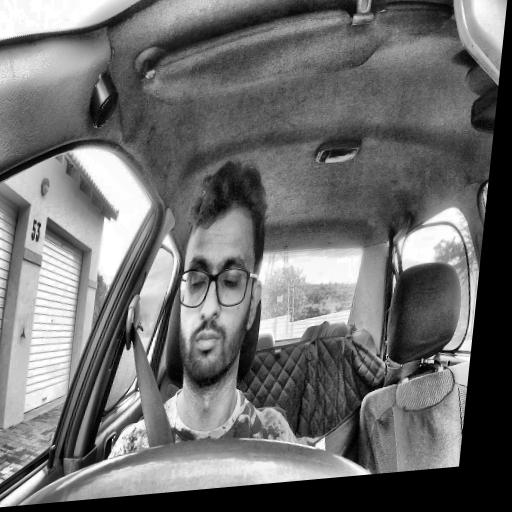drowsy: (168, 158, 277, 391)
